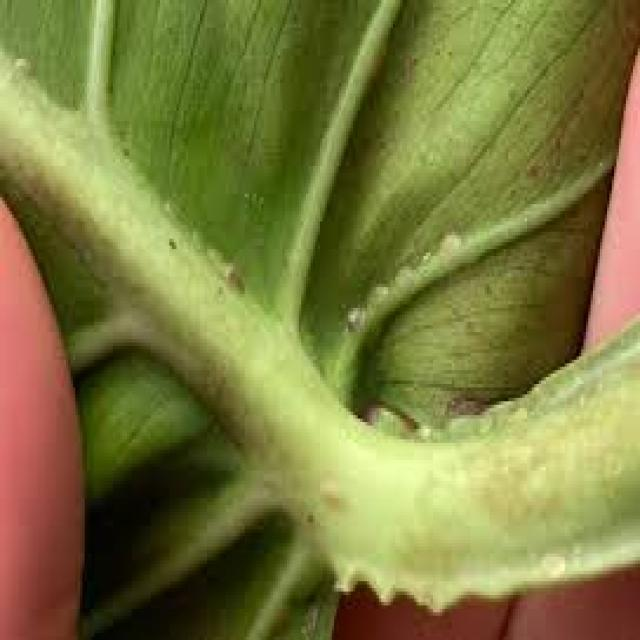scale_insect: (336, 294, 364, 336), (433, 222, 463, 260), (217, 253, 244, 294), (384, 252, 416, 284), (360, 270, 388, 304)
